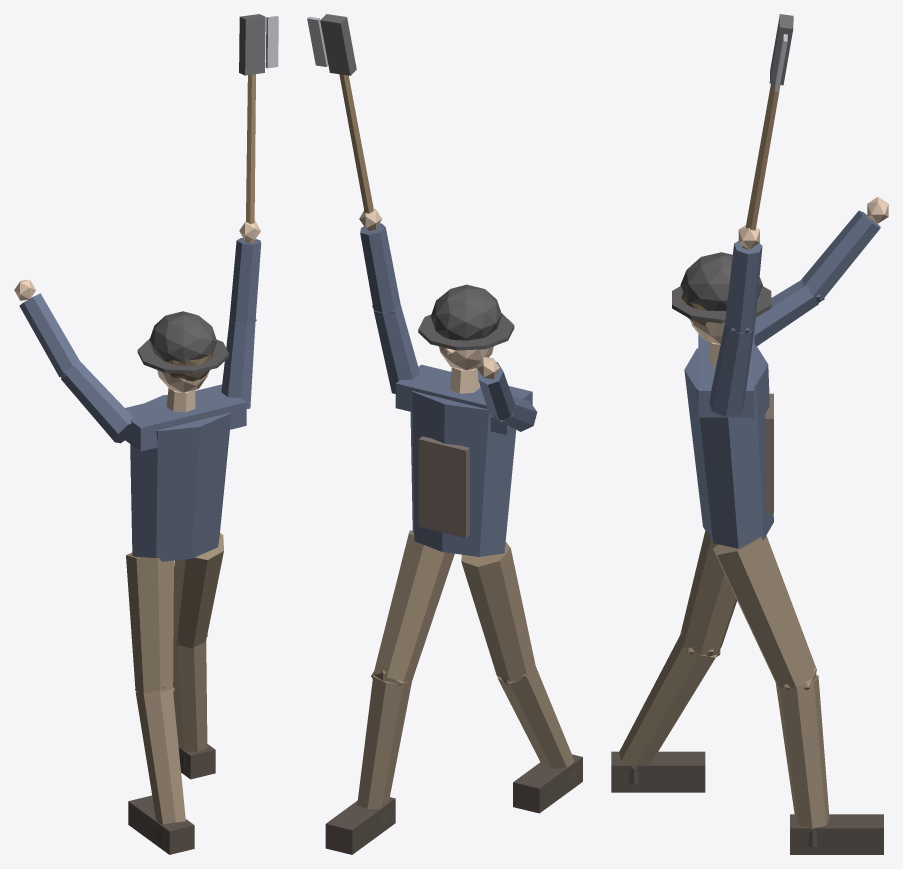
Rendered from townsman_axe_raised.glb.
3 views of the same model, side by side, from view 1: azimuth 30°, elevation 25°; view 2: azimuth 150°, elevation 25°; view 3: azimuth 270°, elevation 25° (orthographic). The views are drawn at different scales.
Visible parts, largest first — view 1: wool_navy, tweed_brown, wool_black, boot, skin, iron, wood, steel; view 2: tweed_brown, wool_navy, boot, waistcoat, wool_black, skin, iron, wood, steel; view 3: wool_navy, tweed_brown, boot, wool_black, skin, wood, waistcoat, iron.
Boxes of the visible parts, x1,y1,x2,y2 form: wool_navy: (19, 238, 261, 561); tweed_brown: (126, 533, 223, 824); wool_black: (137, 311, 228, 373); boot: (128, 744, 215, 854); skin: (14, 220, 260, 412); iron: (239, 14, 265, 75); wood: (245, 74, 255, 242); steel: (265, 16, 278, 68); tweed_brown: (357, 530, 574, 809); wool_navy: (360, 223, 537, 556); boot: (325, 754, 582, 854); waistcoat: (418, 436, 469, 537); wool_black: (418, 284, 514, 350); skin: (359, 209, 499, 393); iron: (320, 14, 356, 75); wood: (339, 74, 373, 230); steel: (307, 16, 328, 66); wool_navy: (684, 210, 880, 548); tweed_brown: (619, 531, 829, 829); boot: (611, 751, 883, 854); wool_black: (672, 252, 771, 323); skin: (691, 197, 888, 366); wood: (742, 83, 780, 249); waistcoat: (765, 393, 773, 513); iron: (769, 14, 793, 85).
Bounding box in the file's own units: 0.8319 × 2.71 × 0.7963.
